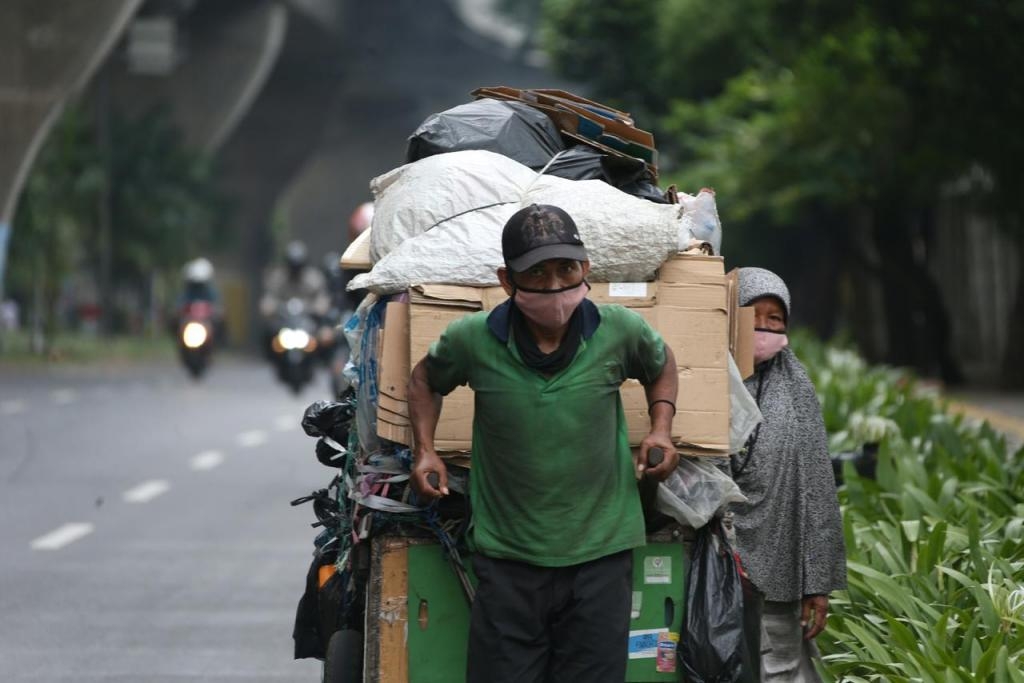pemulung: (281, 76, 853, 683)
